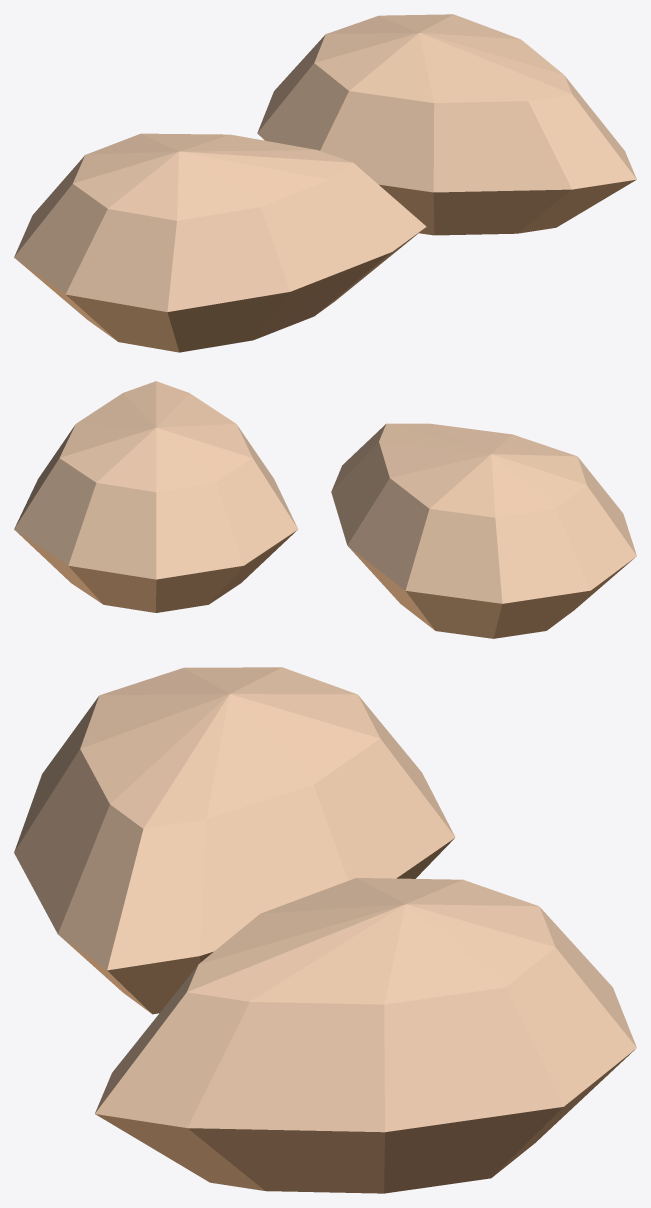
Rendered from item_produce_seed_b.obj.
3 views of the same model, one above another, from view 1: azimuth 30°, elevation 25°; view 2: azimuth 150°, elevation 25°; view 3: azimuth 270°, elevation 25° (orthographic). The views are drawn at different scales.
Bounding box in the file's own units: 0.6743 × 0.1815 × 0.4444.
